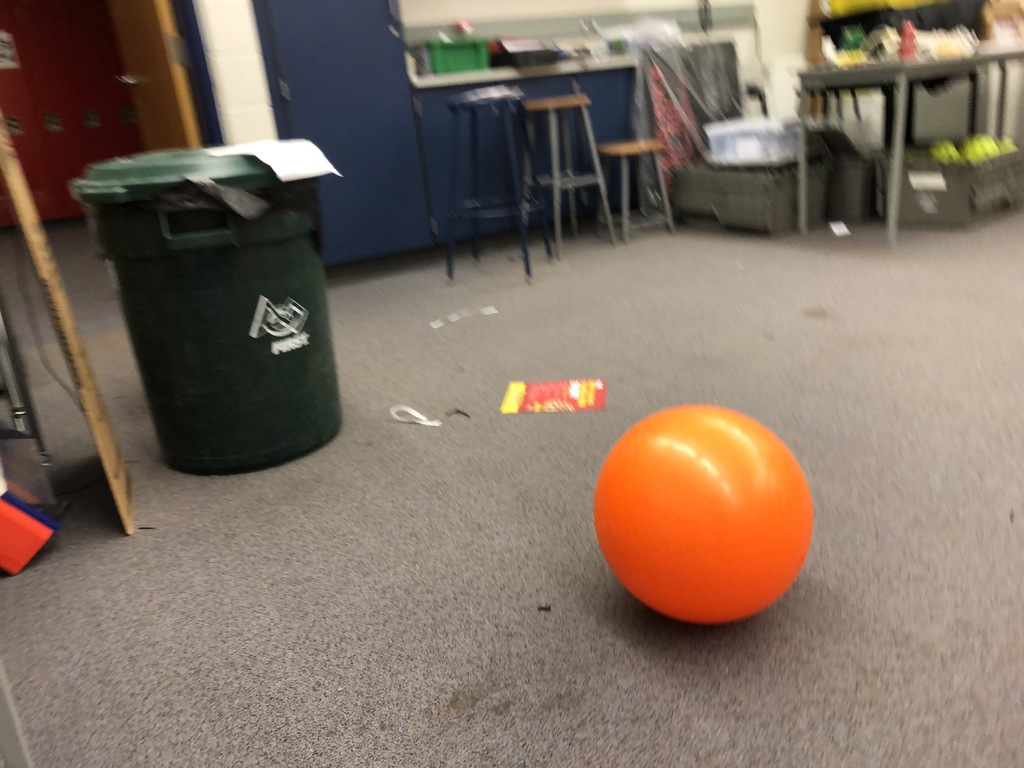cargo: (593, 397, 826, 633)
